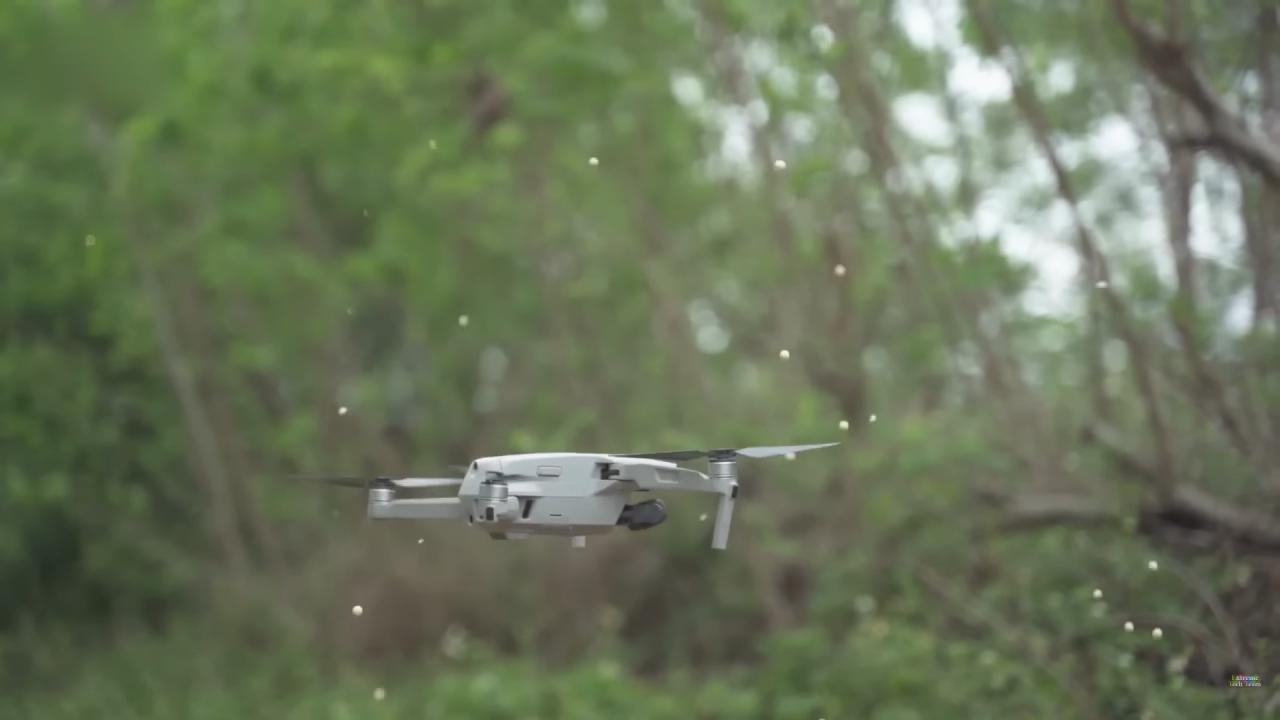Drone: (264, 430, 864, 568)
